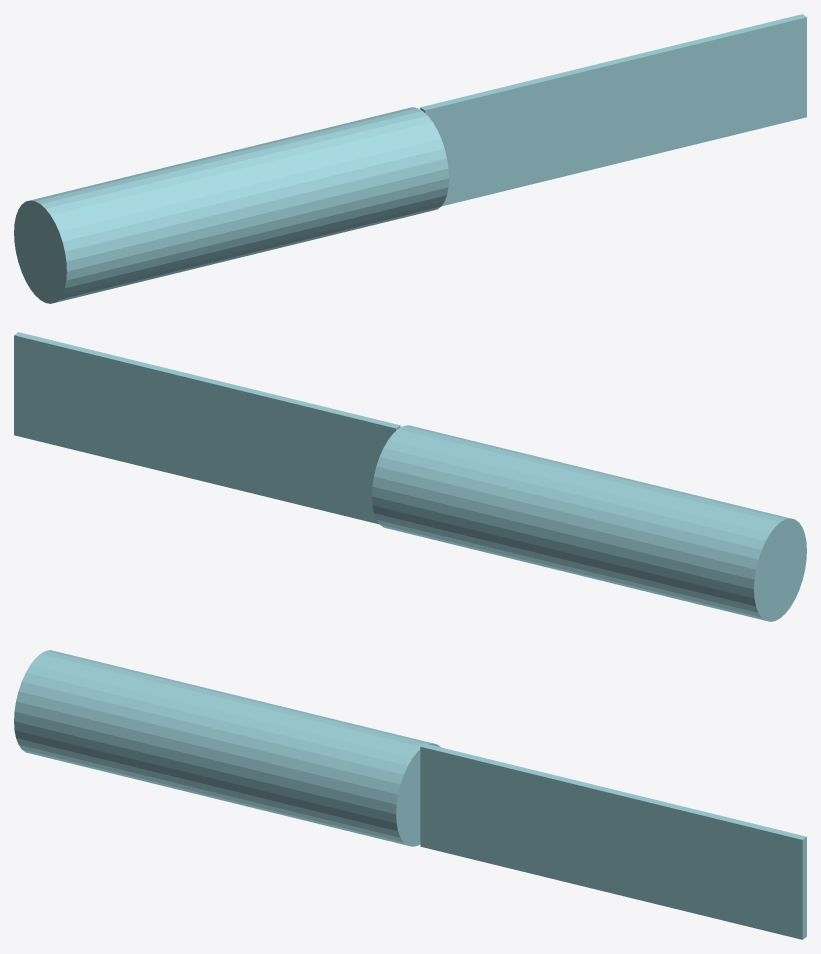
The model's file is paring_knife.obj.
3 renders of one model, top to bottom at view 1: azimuth 30°, elevation 25°; view 2: azimuth 150°, elevation 25°; view 3: azimuth 330°, elevation 25°, orthographic.
Size of the model in its own units: 0.2 by 0.025 by 0.024.
